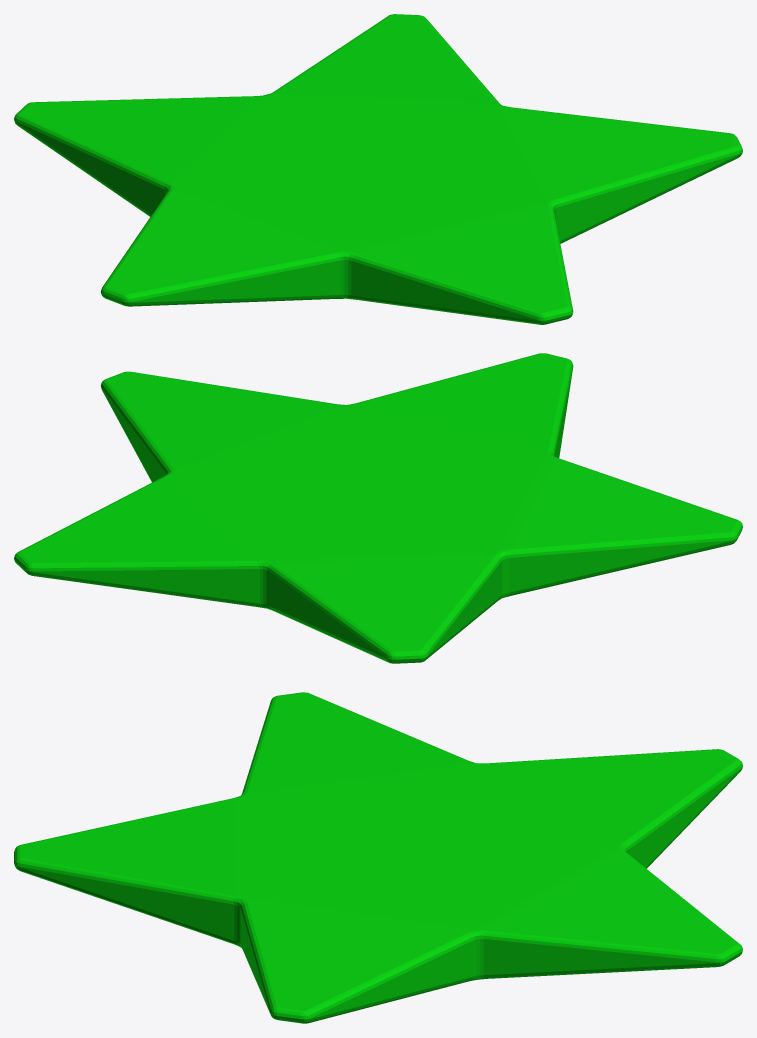
Rendered from estrela verde.fbx.
The picture shows the model from 3 angles, top to bottom: view 1: azimuth 30°, elevation 25°; view 2: azimuth 150°, elevation 25°; view 3: azimuth 270°, elevation 25°; orthographic projection. The views are drawn at different scales.
Visible parts, largest first — view 1: Cylinder.001; view 2: Cylinder.001; view 3: Cylinder.001.
Part boxes in pixels (x1,y1,x2,y2): Cylinder.001: [14, 14, 742, 324]; Cylinder.001: [14, 353, 742, 663]; Cylinder.001: [14, 692, 742, 1023].
Size of the model in its own units: 0.3317 by 0.0233 by 0.3159.
